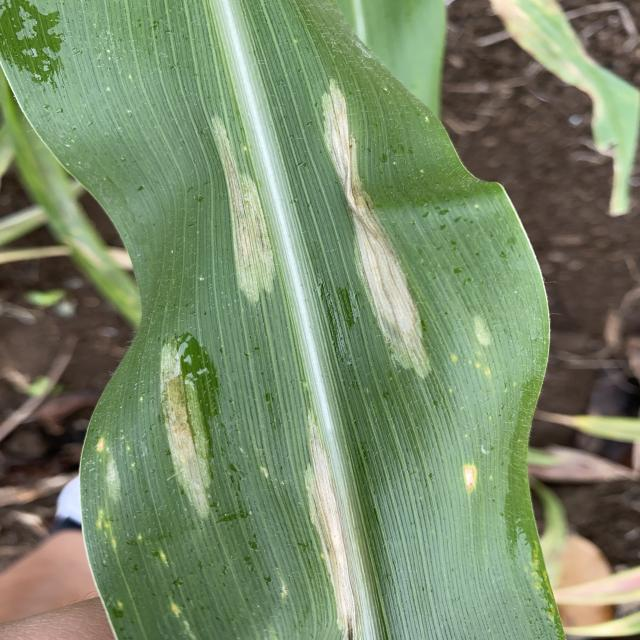Corn_Leaf_Blight: (19, 0, 554, 640)
